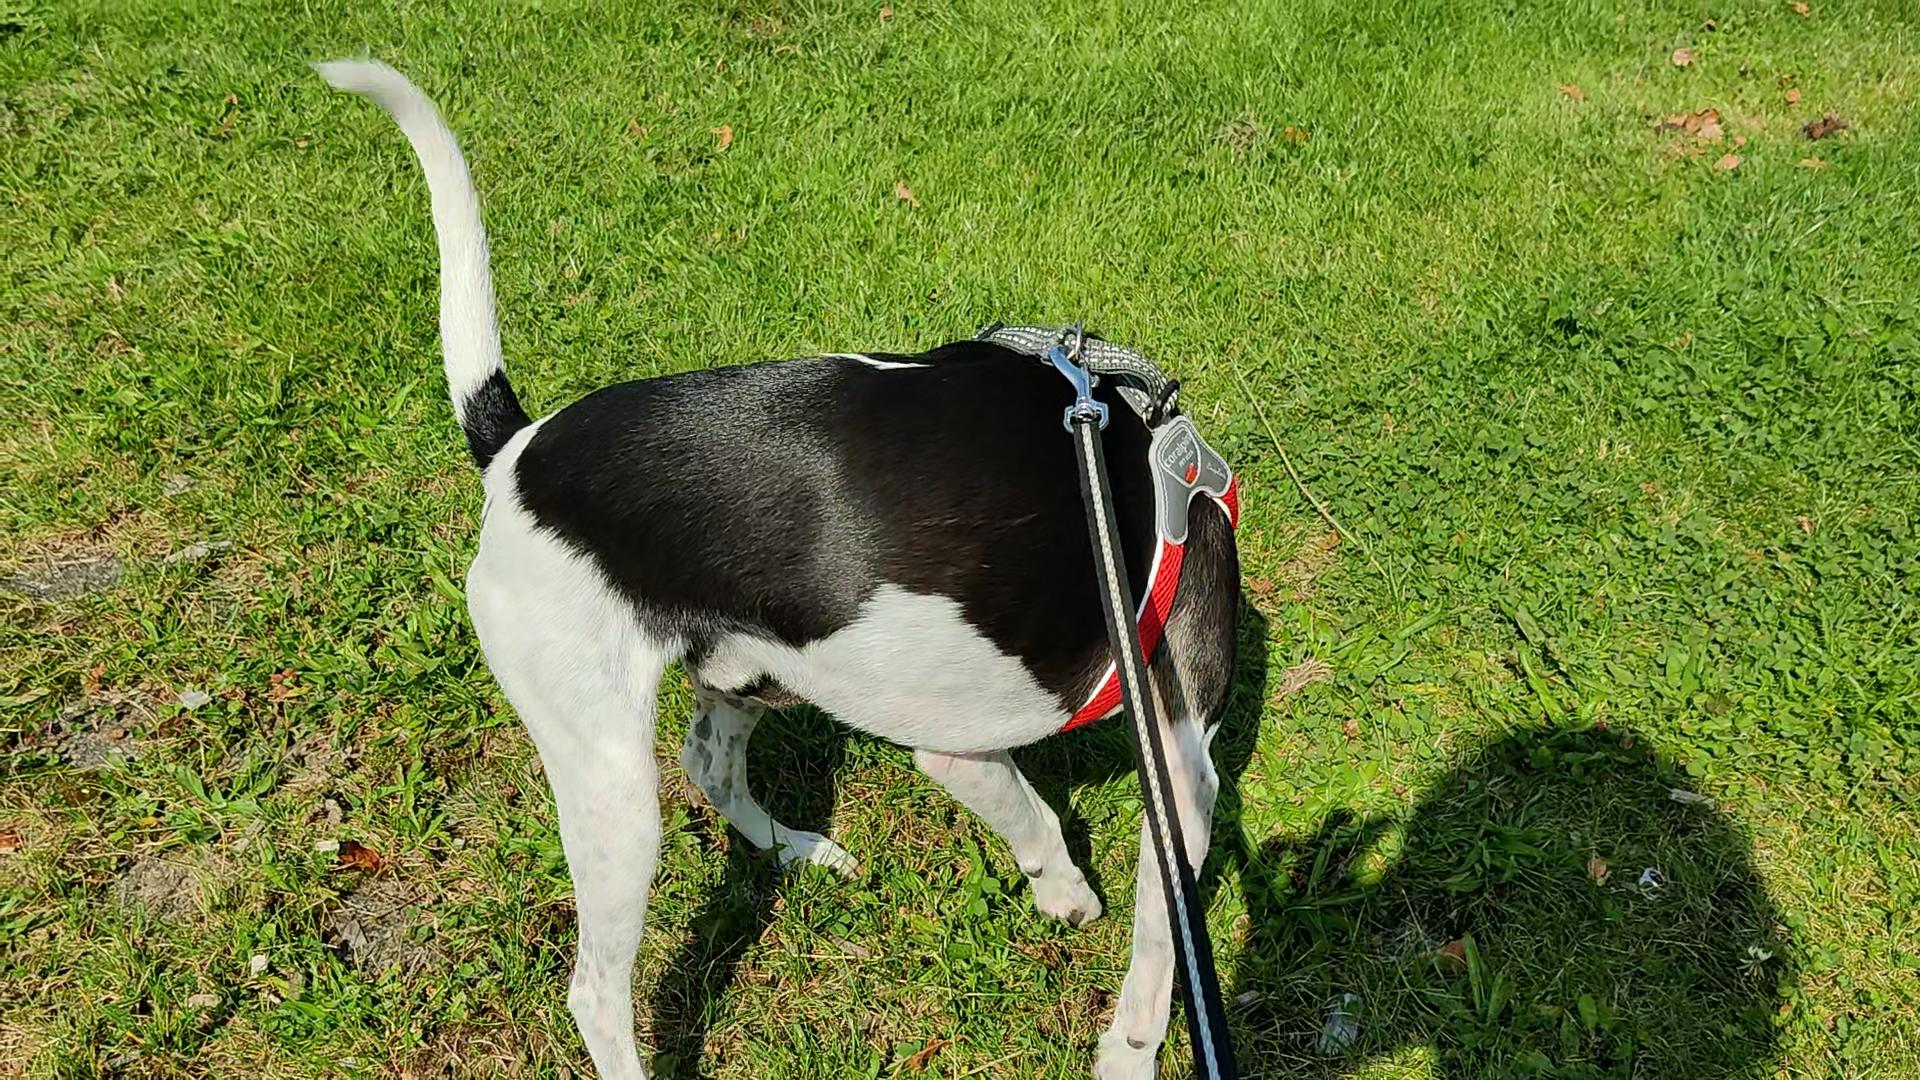Dog: (285, 32, 1255, 1079)
